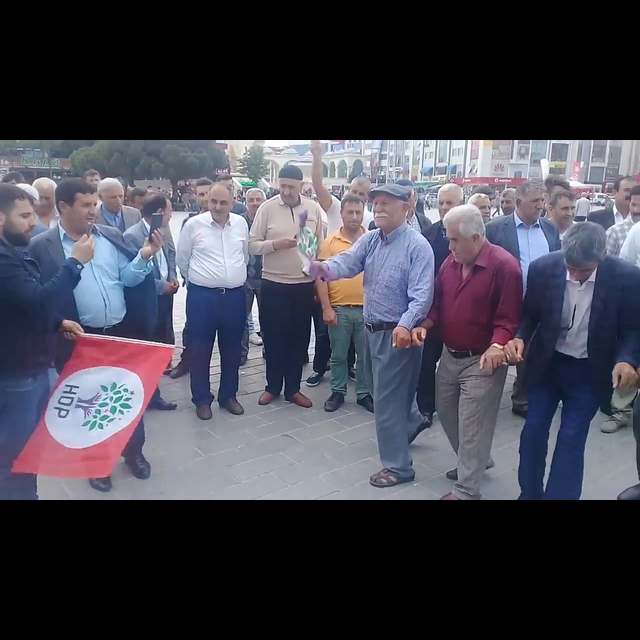HDP: (77, 376, 133, 436)
